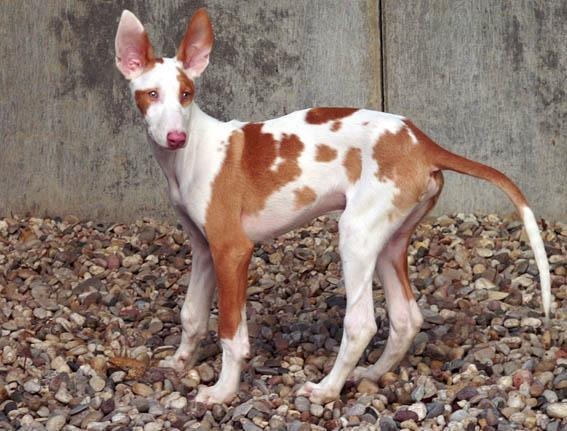Ibizan_hound: (114, 7, 549, 404)
